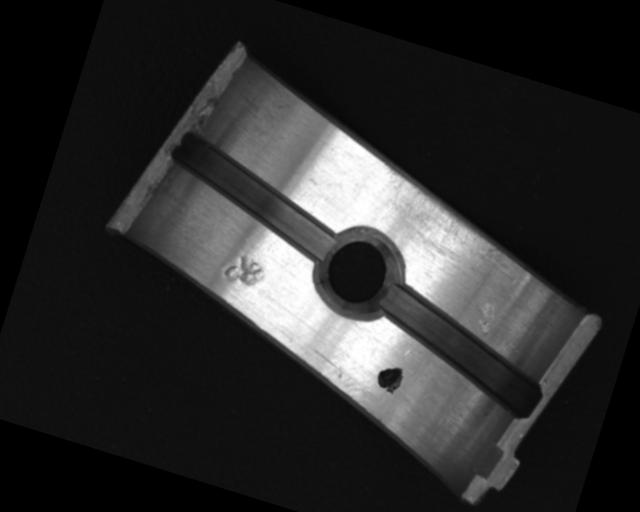blot: (373, 361, 406, 397)
bruise: (220, 249, 269, 293), (472, 298, 500, 336)
gap: (360, 283, 558, 422), (154, 129, 352, 264)
hole: (305, 218, 415, 329)
scratch: (360, 161, 525, 277)
